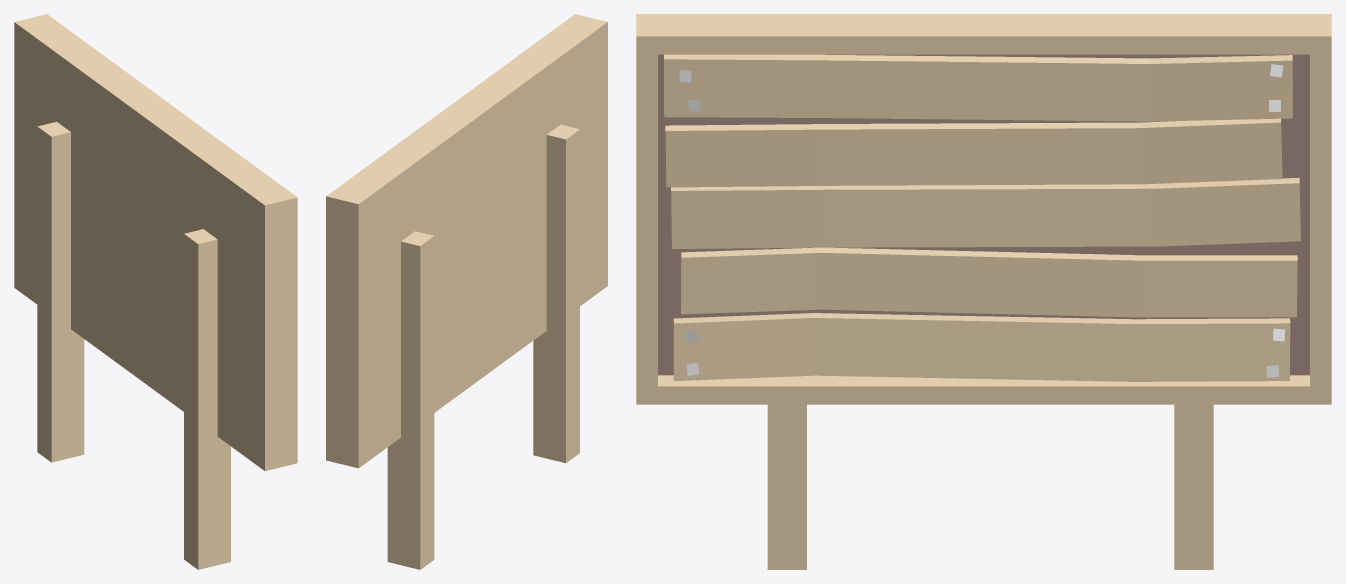
3 views of the same model, side by side, from view 1: azimuth 30°, elevation 25°; view 2: azimuth 150°, elevation 25°; view 3: azimuth 270°, elevation 25° (orthographic). The views are drawn at different scales.
Visible parts, largest first — view 1: group16934192; view 2: group16934192; view 3: group16934192.
Part boxes in pixels (box(x1,y1,x2,y2)): group16934192: box(14, 14, 297, 569); group16934192: box(326, 14, 607, 569); group16934192: box(636, 14, 1331, 569).
Size of the model in its own units: 0.0757 by 0.46 by 0.53.
